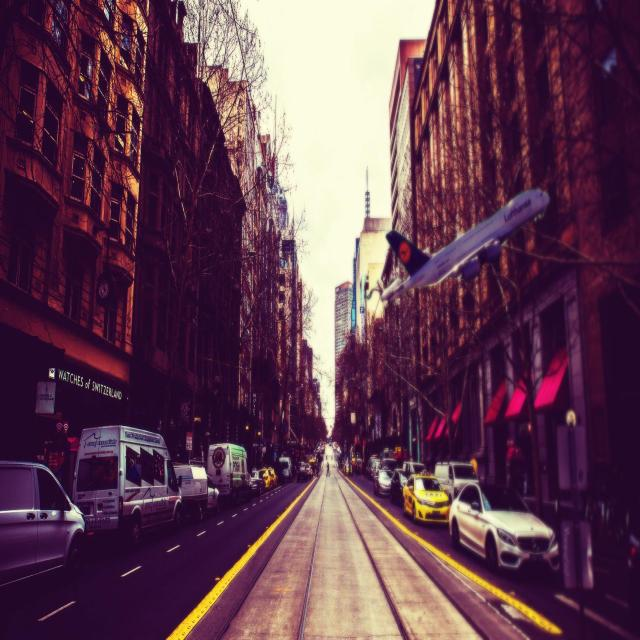airplane: (365, 187, 550, 310)
